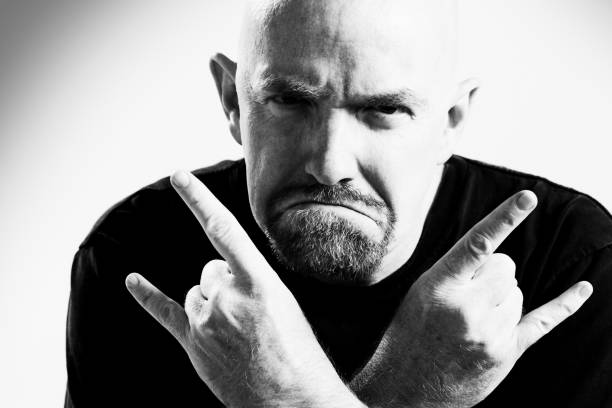Rock On: (126, 165, 323, 401), (406, 178, 594, 395)
